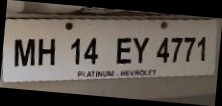character: (13, 38, 35, 66), (37, 37, 55, 66), (132, 37, 150, 63), (83, 37, 98, 65), (116, 36, 130, 64), (156, 36, 169, 63), (170, 36, 183, 63), (182, 36, 195, 63), (69, 37, 81, 66), (196, 36, 205, 62)
